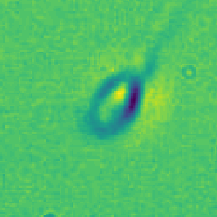normal: (127, 1, 179, 76)
